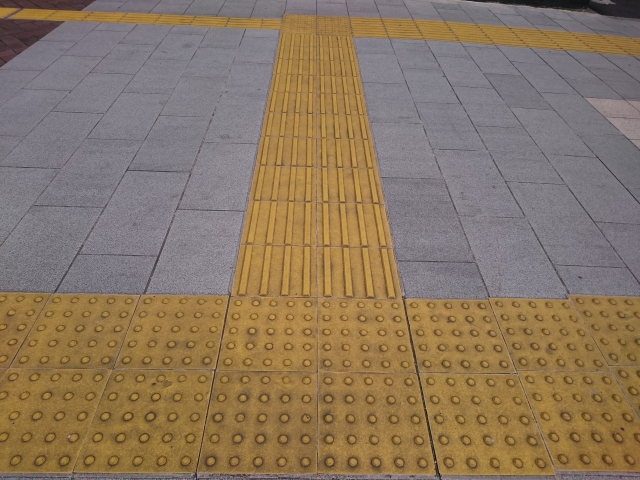dot: (78, 371, 214, 480), (520, 373, 640, 478), (425, 373, 551, 473), (201, 370, 317, 476), (317, 374, 431, 476), (1, 371, 108, 474), (25, 290, 135, 370), (125, 295, 225, 373), (501, 300, 606, 371), (411, 300, 511, 374), (224, 297, 317, 370), (319, 300, 412, 372), (587, 297, 640, 369), (1, 293, 49, 371)
line: (240, 241, 316, 302), (322, 243, 398, 302), (244, 200, 319, 246), (319, 203, 384, 249), (316, 166, 381, 206), (256, 164, 317, 206), (260, 134, 317, 166), (317, 140, 375, 168), (318, 112, 372, 141), (267, 111, 319, 141), (267, 89, 316, 115), (270, 73, 319, 98), (317, 95, 366, 114), (321, 76, 360, 95), (276, 59, 315, 75), (319, 60, 357, 76)
